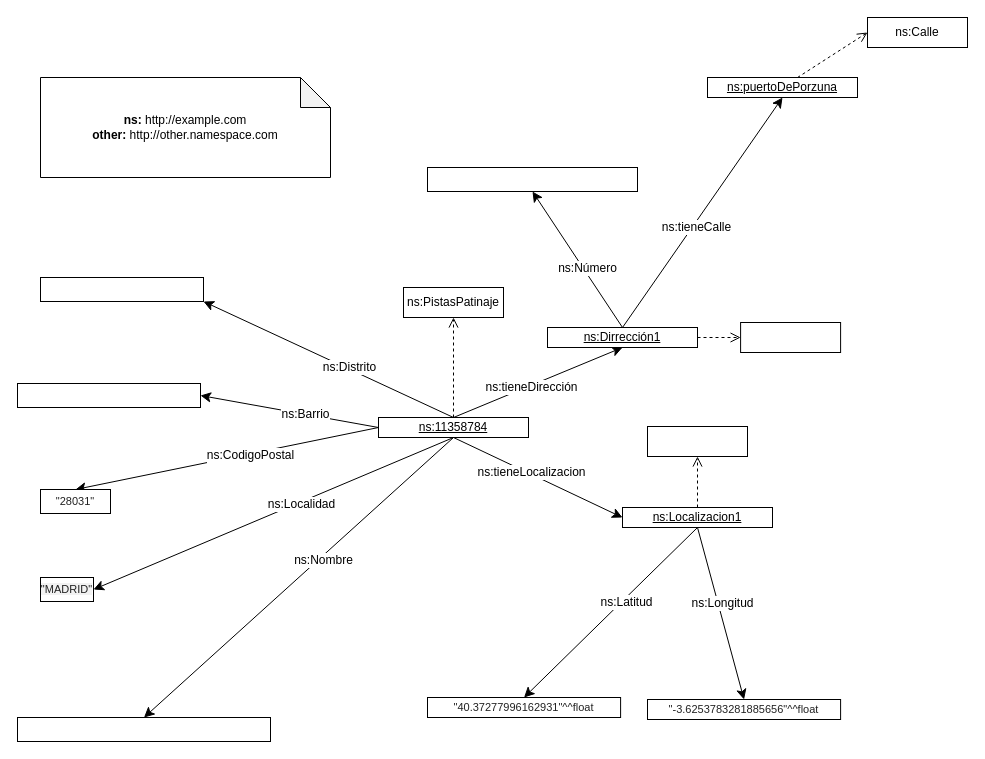
The diagram is 985 pixels wide and 759 high, and some of its shapes have lost their labels. Each missing label, with the box of its shape:
"0"^^interger: (426, 166, 638, 192)
"ENSANCHE DE VALLECAS": (16, 382, 200, 408)
"Instalación Deportiva Básica Pista de Patinaje": (16, 716, 270, 742)
"VILLA DE VALLECAS": (40, 276, 204, 302)
ns:Dirreción: (740, 322, 841, 352)
ns:Localización: (646, 426, 748, 456)
